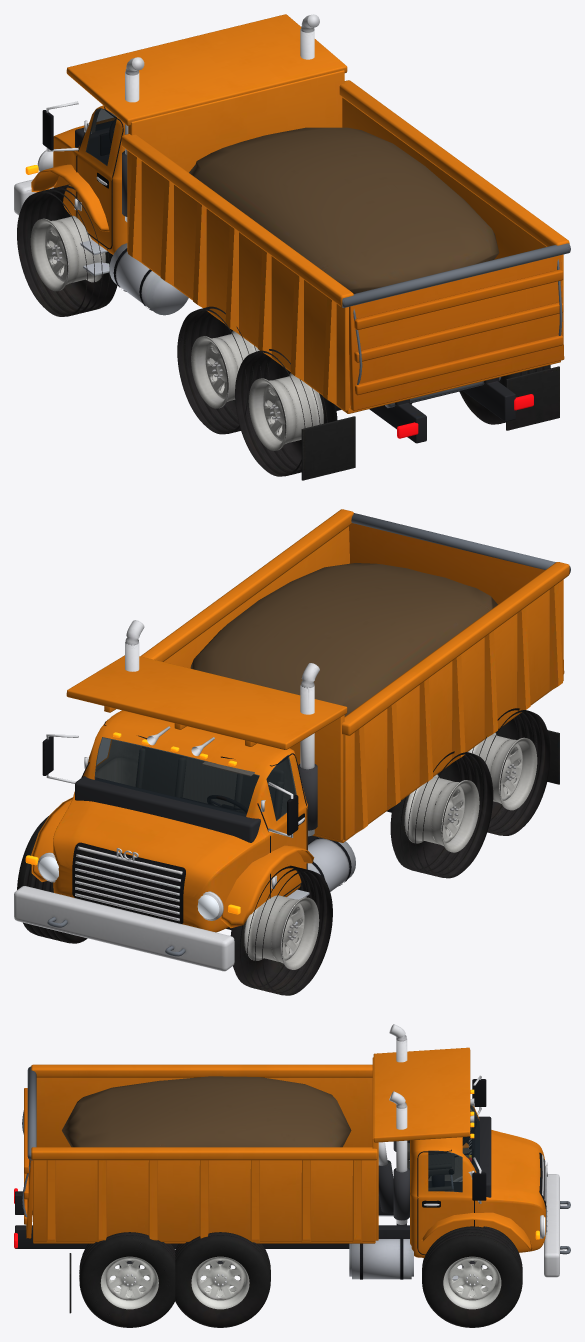
File: DumpTruck.glb
3 renders of one model, top to bottom at view 1: azimuth 30°, elevation 25°; view 2: azimuth 150°, elevation 25°; view 3: azimuth 270°, elevation 25°, orthographic. The views are drawn at different scales.
Parts seen in each view (by area): view 1: DumpTruck_Body, DumpTruck_Trim, DumpTruck_Wheel1, DumpTruck_Wheel3, DumpTruck_Wheel5, DumpTruck_Glass, DumpTruck_Interior, DumpTruck_Wheel4, DumpTruck_Lights; view 2: DumpTruck_Body, DumpTruck_Trim, DumpTruck_Interior, DumpTruck_Wheel5, DumpTruck_Wheel1, DumpTruck_Glass, DumpTruck_Wheel3, DumpTruck_Wheel2, DumpTruck_Lights; view 3: DumpTruck_Body, DumpTruck_Trim, DumpTruck_Wheel2, DumpTruck_Wheel4, DumpTruck_Wheel6, DumpTruck_Interior, DumpTruck_Glass.
Part boxes in pixels (x1=…): DumpTruck_Body: x1=31, y1=14, x2=569, y2=413; DumpTruck_Trim: x1=14, y1=14, x2=570, y2=480; DumpTruck_Wheel1: x1=17, y1=184, x2=117, y2=316; DumpTruck_Wheel3: x1=235, y1=349, x2=337, y2=476; DumpTruck_Wheel5: x1=177, y1=306, x2=279, y2=434; DumpTruck_Glass: x1=86, y1=108, x2=116, y2=165; DumpTruck_Interior: x1=75, y1=108, x2=114, y2=165; DumpTruck_Wheel4: x1=459, y1=365, x2=550, y2=424; DumpTruck_Lights: x1=25, y1=165, x2=533, y2=438; DumpTruck_Body: x1=31, y1=509, x2=569, y2=932; DumpTruck_Trim: x1=14, y1=513, x2=570, y2=971; DumpTruck_Interior: x1=75, y1=737, x2=296, y2=842; DumpTruck_Wheel5: x1=390, y1=751, x2=493, y2=878; DumpTruck_Wheel1: x1=230, y1=865, x2=332, y2=995; DumpTruck_Glass: x1=94, y1=737, x2=296, y2=820; DumpTruck_Wheel3: x1=448, y1=708, x2=550, y2=835; DumpTruck_Wheel2: x1=17, y1=816, x2=87, y2=943; DumpTruck_Lights: x1=25, y1=732, x2=240, y2=919; DumpTruck_Body: x1=24, y1=1047, x2=545, y2=1257; DumpTruck_Trim: x1=15, y1=1024, x2=570, y2=1313; DumpTruck_Wheel2: x1=422, y1=1226, x2=522, y2=1327; DumpTruck_Wheel4: x1=79, y1=1232, x2=175, y2=1327; DumpTruck_Wheel6: x1=175, y1=1232, x2=270, y2=1327; DumpTruck_Interior: x1=407, y1=1105, x2=491, y2=1197; DumpTruck_Glass: x1=428, y1=1105, x2=479, y2=1192.
Bounding box in the file's own units: 11.72 × 12.17 × 27.65.
14 materials, 10 textured.
